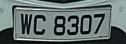0: (79, 13, 94, 36)
3: (66, 15, 80, 37)
7: (93, 12, 106, 34)
8: (52, 14, 67, 38)
C: (31, 13, 48, 39)
W: (19, 12, 33, 37)
